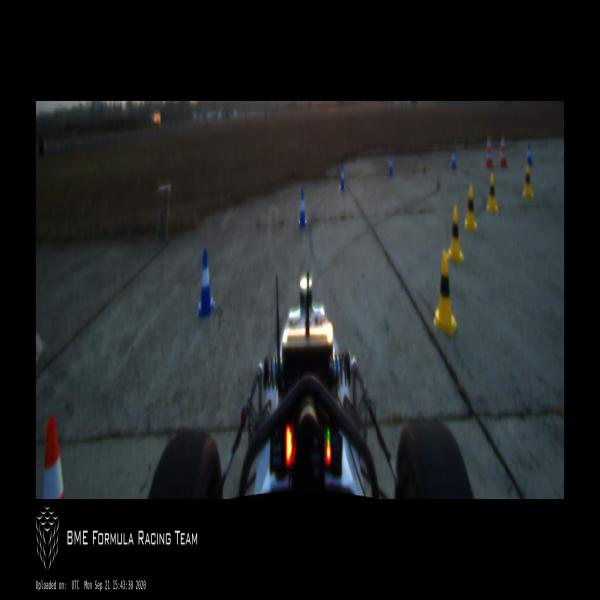blue_cone: (196, 250, 215, 318), (298, 189, 306, 228), (338, 162, 346, 191), (388, 153, 394, 177), (527, 144, 533, 168), (451, 147, 457, 170)
large_orange_cone: (498, 130, 507, 169), (485, 133, 493, 170)
orange_cone: (42, 415, 65, 499)
yellow_cone: (435, 252, 456, 335), (447, 208, 463, 260), (464, 187, 477, 230), (486, 175, 498, 212), (522, 163, 534, 200)
